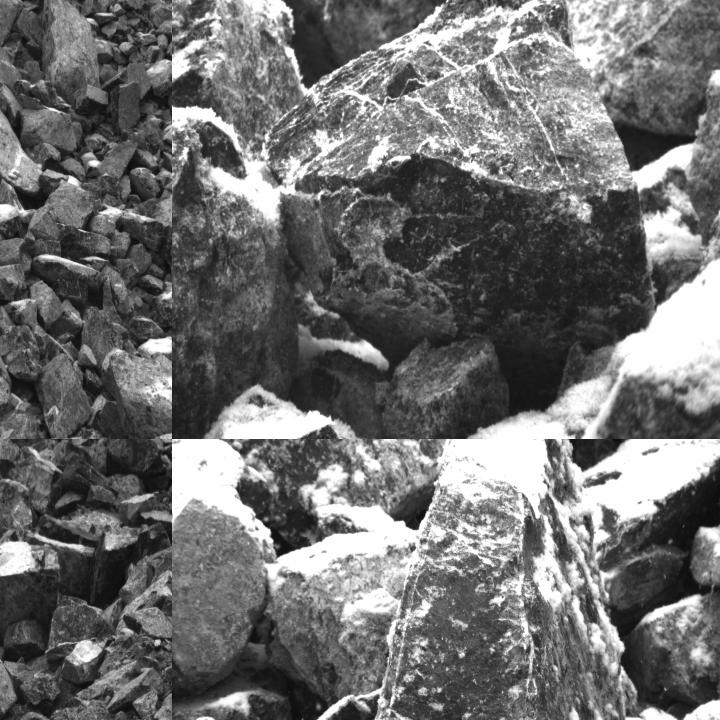stone: (261, 0, 658, 357), (347, 439, 629, 719), (172, 105, 301, 438), (264, 529, 417, 704), (190, 0, 579, 67), (172, 0, 301, 187), (172, 493, 269, 696), (384, 341, 508, 438), (625, 589, 719, 709), (0, 540, 58, 650), (103, 345, 171, 438), (602, 544, 690, 614), (192, 397, 339, 438), (42, 0, 99, 91), (46, 594, 115, 669), (34, 350, 91, 438), (25, 533, 96, 601), (0, 98, 43, 198), (6, 447, 62, 516), (0, 469, 34, 582), (134, 167, 171, 242), (84, 308, 124, 373), (105, 439, 167, 479), (0, 33, 45, 88), (0, 324, 41, 384), (115, 212, 168, 252), (57, 224, 110, 262), (3, 620, 50, 661), (60, 458, 111, 494), (0, 396, 40, 438), (110, 81, 141, 134), (122, 608, 171, 641), (30, 79, 72, 110), (0, 0, 24, 50), (50, 440, 90, 470), (52, 278, 90, 308), (74, 84, 109, 115), (0, 376, 12, 438), (160, 239, 171, 267), (157, 439, 171, 446)
